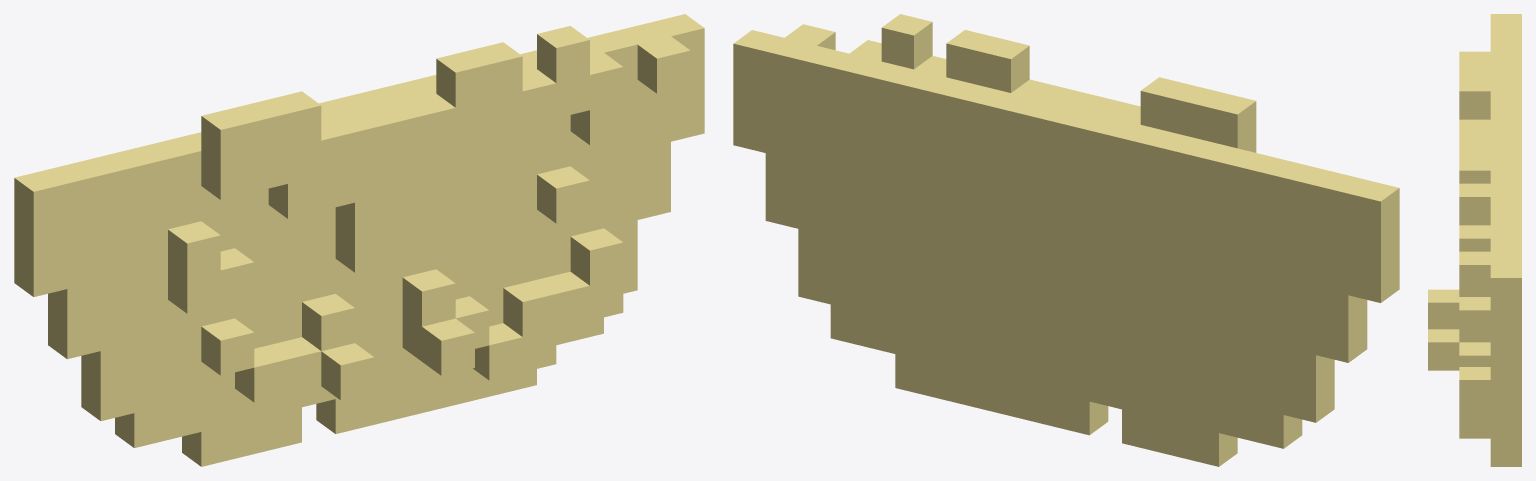
The model's file is humanoid-9.obj.
The picture shows the model from 3 angles, left to right: view 1: azimuth 30°, elevation 25°; view 2: azimuth 150°, elevation 25°; view 3: azimuth 270°, elevation 25°; orthographic projection. The views are drawn at different scales.
Parts seen in each view (by area): view 1: humanoid-9; view 2: humanoid-9; view 3: humanoid-9.
Part boxes in pixels (x1=…): humanoid-9: x1=14, y1=14, x2=704, y2=466; humanoid-9: x1=733, y1=14, x2=1399, y2=466; humanoid-9: x1=1428, y1=14, x2=1521, y2=466.
Size of the model in its own units: 20 by 10 by 3.
1 material, 1 textured.
